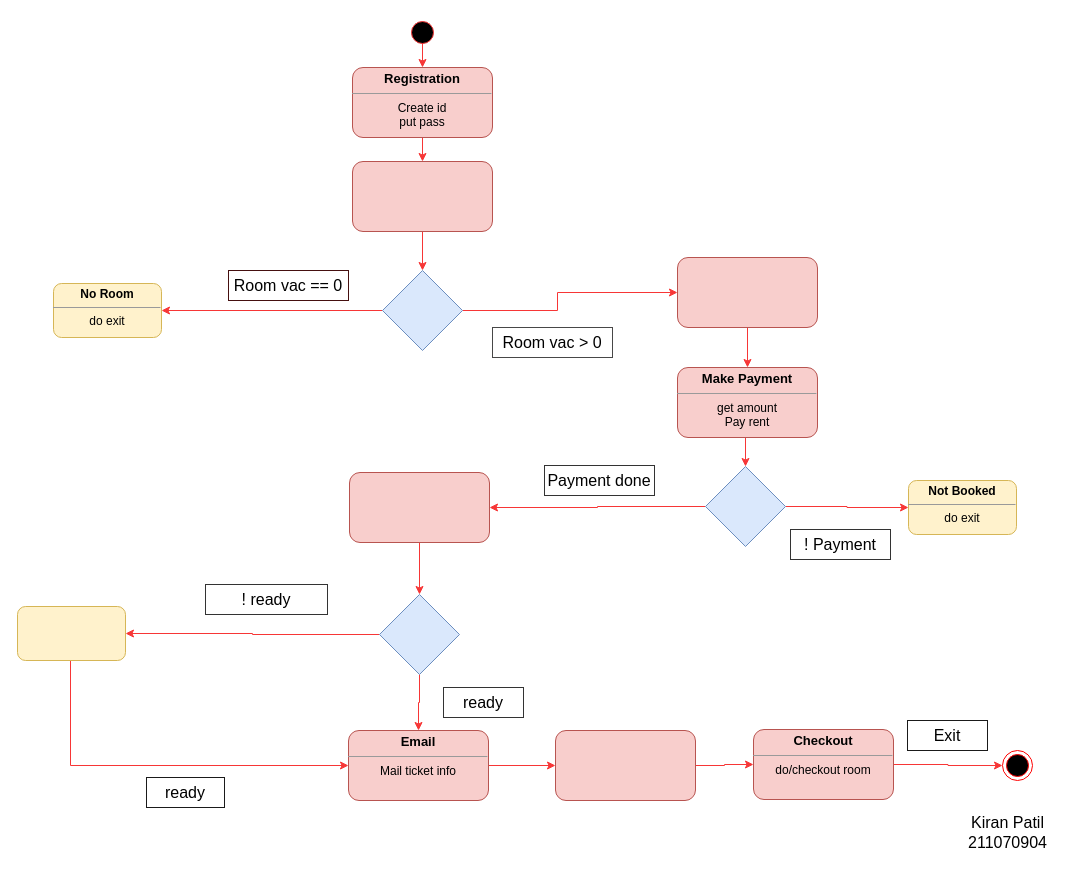
This 1075x875 diagram has some shape labels left out. Each missing label, with the centre of its shape:
Check in do/checkin room: (x=625, y=765)
Confirmation Confirm booking: (x=419, y=507)
Login Enter id Enter pass: (x=422, y=196)
Select room Reserve room: (x=747, y=292)
Wait do wait: (x=71, y=633)
